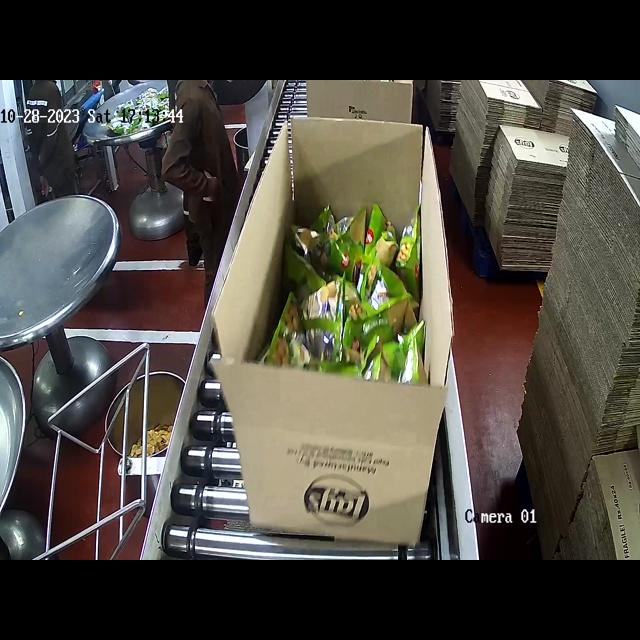yogurt: (294, 193, 415, 403)
